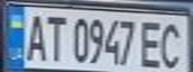0: (66, 12, 90, 64)
4: (103, 16, 124, 65)
7: (118, 16, 139, 66)
9: (87, 15, 106, 64)
A: (21, 10, 48, 62)
C: (157, 18, 190, 71)
E: (136, 17, 166, 70)
T: (42, 11, 69, 62)
